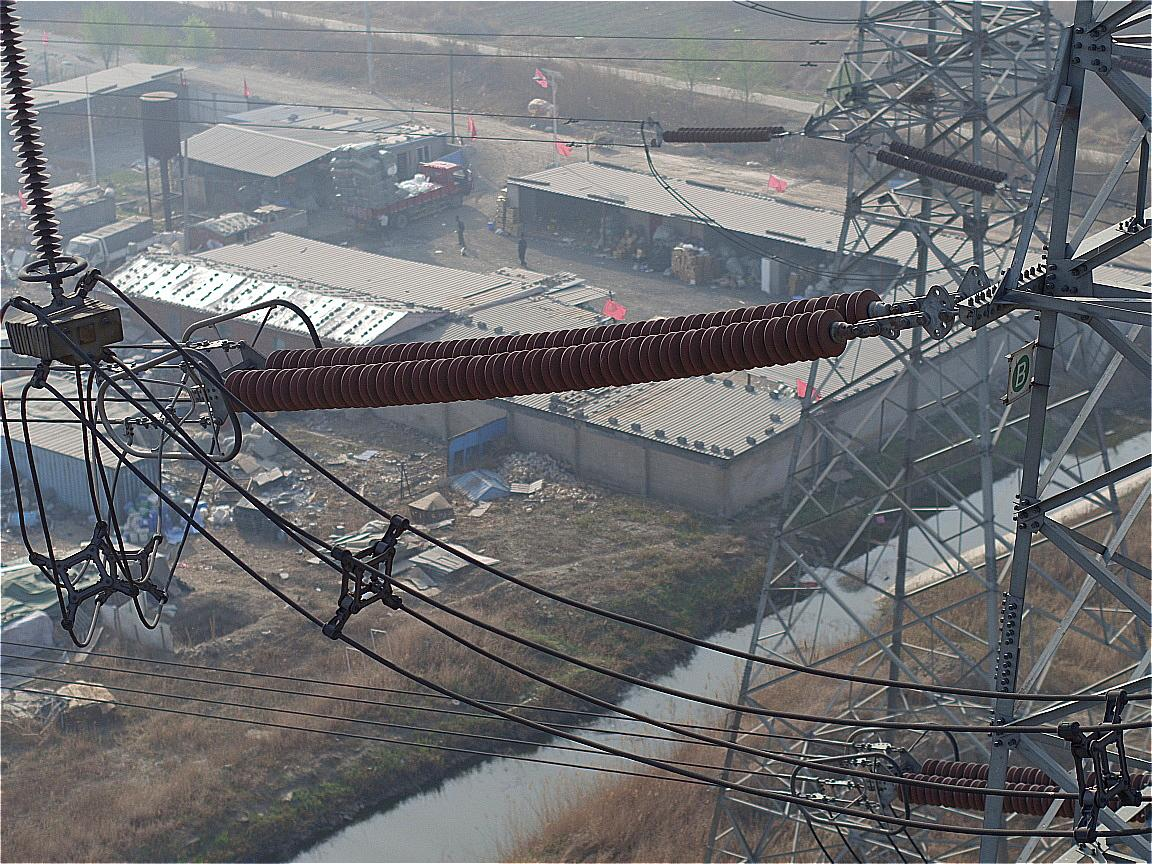insultor2: (185, 273, 922, 416)
